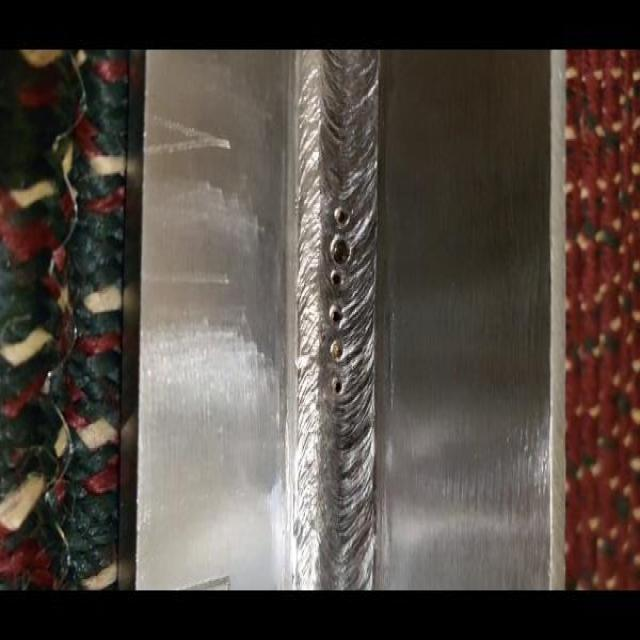Welding Line: (297, 55, 375, 591)
Workpiece: (135, 50, 550, 588)
porosity: (328, 205, 350, 395)
